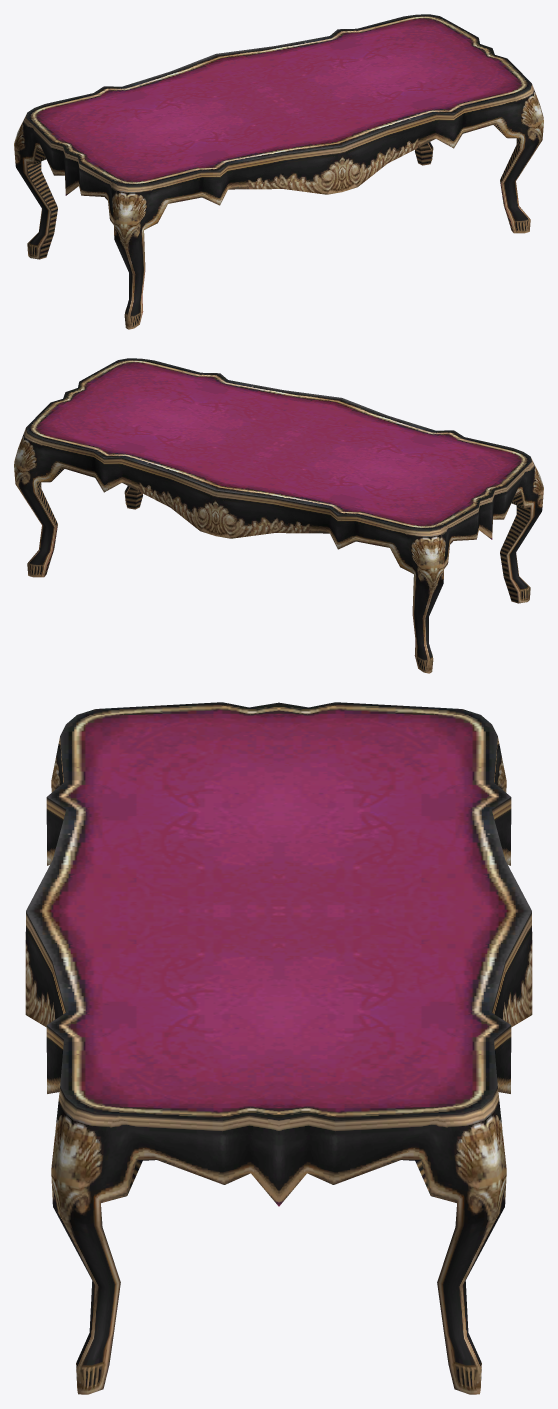
File: furni_0200307_01.FBX
3 views of the same model, one above another, from view 1: azimuth 30°, elevation 25°; view 2: azimuth 150°, elevation 25°; view 3: azimuth 270°, elevation 25° (orthographic). The views are drawn at different scales.
Parts seen in each view (by area): view 1: furni_0200307_01; view 2: furni_0200307_01; view 3: furni_0200307_01.
Part boxes in pixels (<box>): furni_0200307_01: <box>14,14,543,329</box>; furni_0200307_01: <box>14,358,543,673</box>; furni_0200307_01: <box>25,702,532,1394</box>.
Size of the model in its own units: 156 by 49.8 by 79.51.
1 material, 1 textured.
